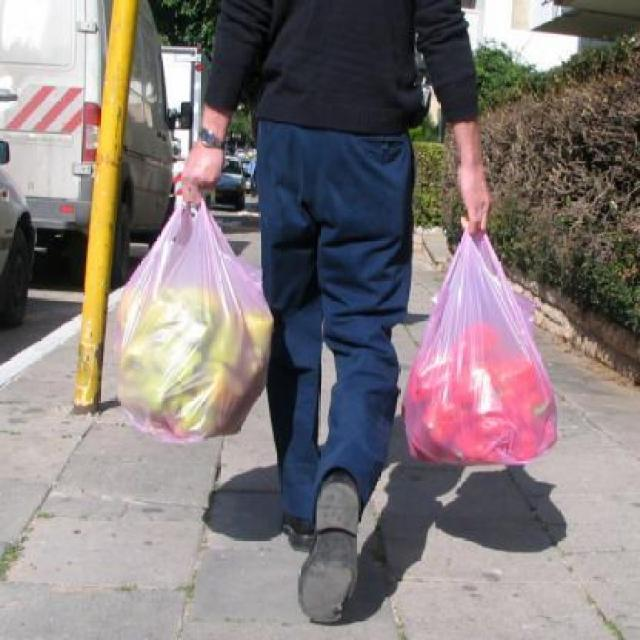plastic bag: (111, 196, 274, 442), (402, 212, 558, 463)
